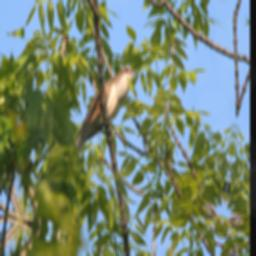Cuckoo: (72, 49, 138, 172)
